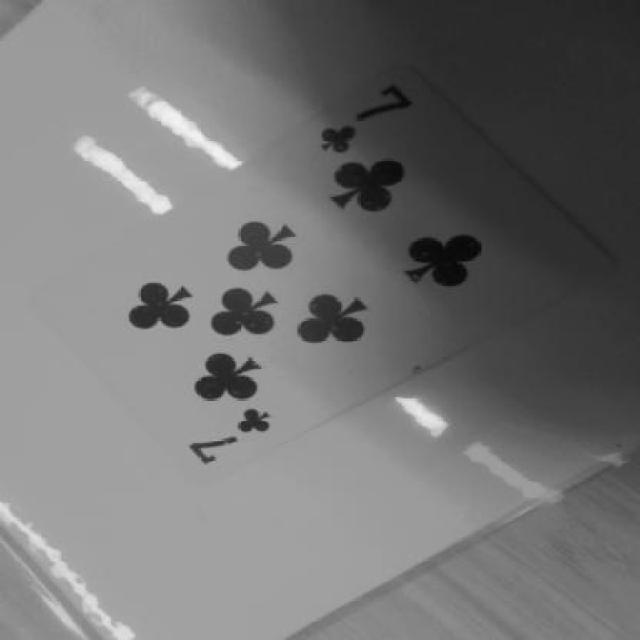7C: (166, 386, 300, 486), (296, 78, 435, 164)
